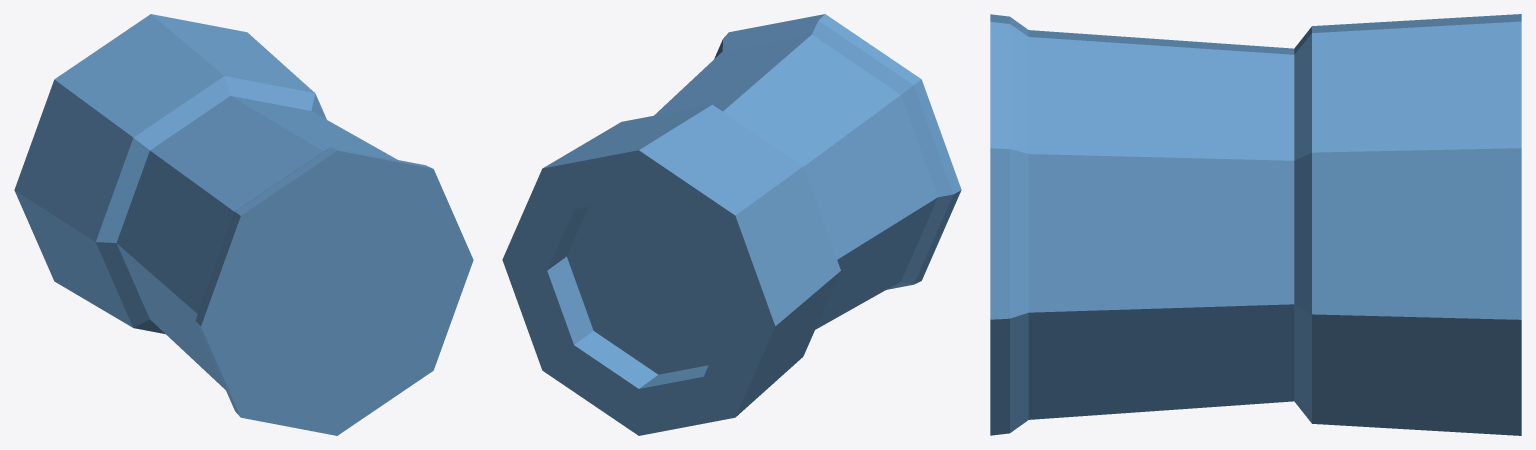
File: mage.fbx
The picture shows the model from 3 angles, left to right: view 1: azimuth 30°, elevation 25°; view 2: azimuth 150°, elevation 25°; view 3: azimuth 270°, elevation 25°; orthographic projection. The views are drawn at different scales.
Parts seen in each view (by area): view 1: mage; view 2: mage; view 3: mage.
Part boxes in pixels (x1,y1,x2,y2): mage: [14, 14, 473, 435]; mage: [502, 14, 961, 435]; mage: [990, 14, 1521, 435].
Size of the model in its own units: 237 by 200 by 200.
